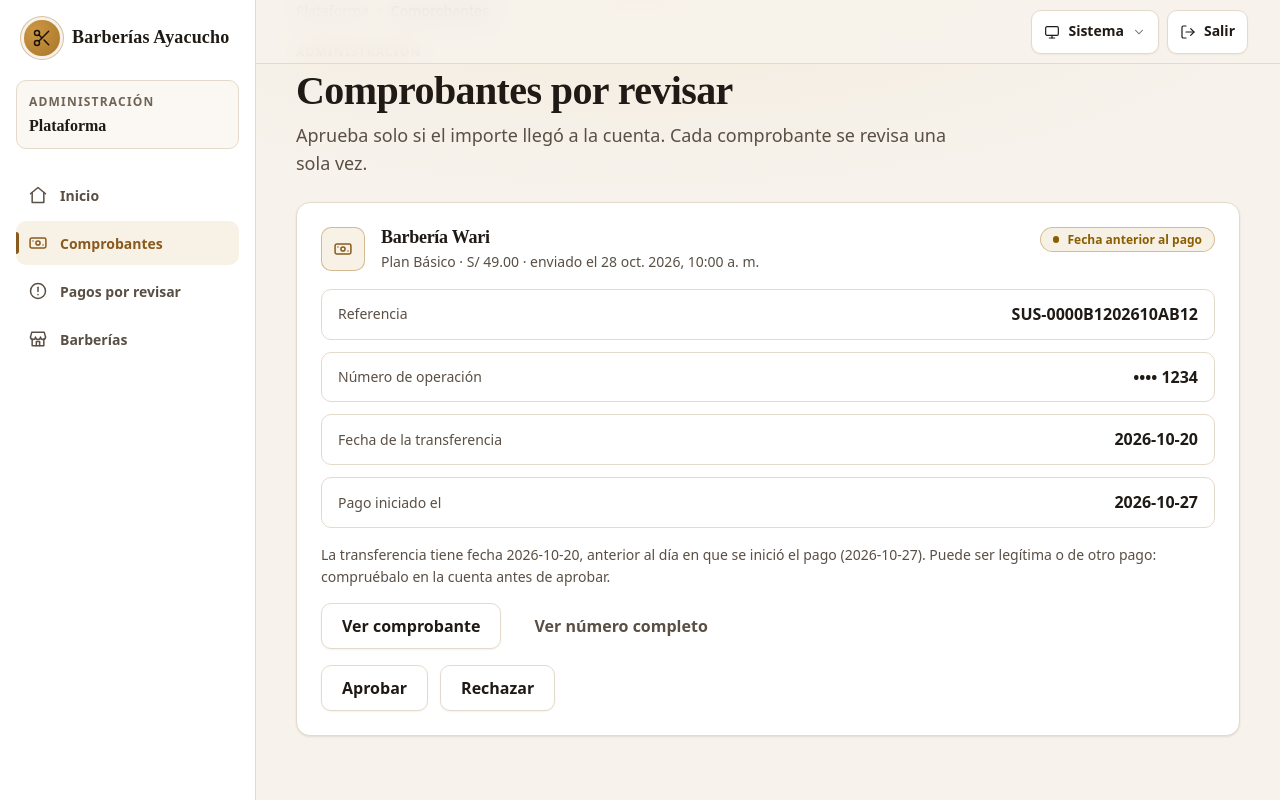
Scenario: Comprobantes por revisar (/plataforma/comprobantes) › FR-020b: la fecha anterior al pago se señala con el día de inicio en hora de Lima, y se puede aprobar
This screenshot has width=1280, height=800.
(page scrolled)
Check: the text "Fecha anterior al pago" is shown, box [1040,227,1215,252]
Check: the text "La transferencia tiene fecha 2026-10-20, anterior al día en que se inició el pago (2026-10-27)" is shown, box [321,544,1215,587]
La marca no bloquea: se aprueba igual.
Click the button "Aprobar" at x=375, y=688, box [321,665,428,711]
(page scrolled)
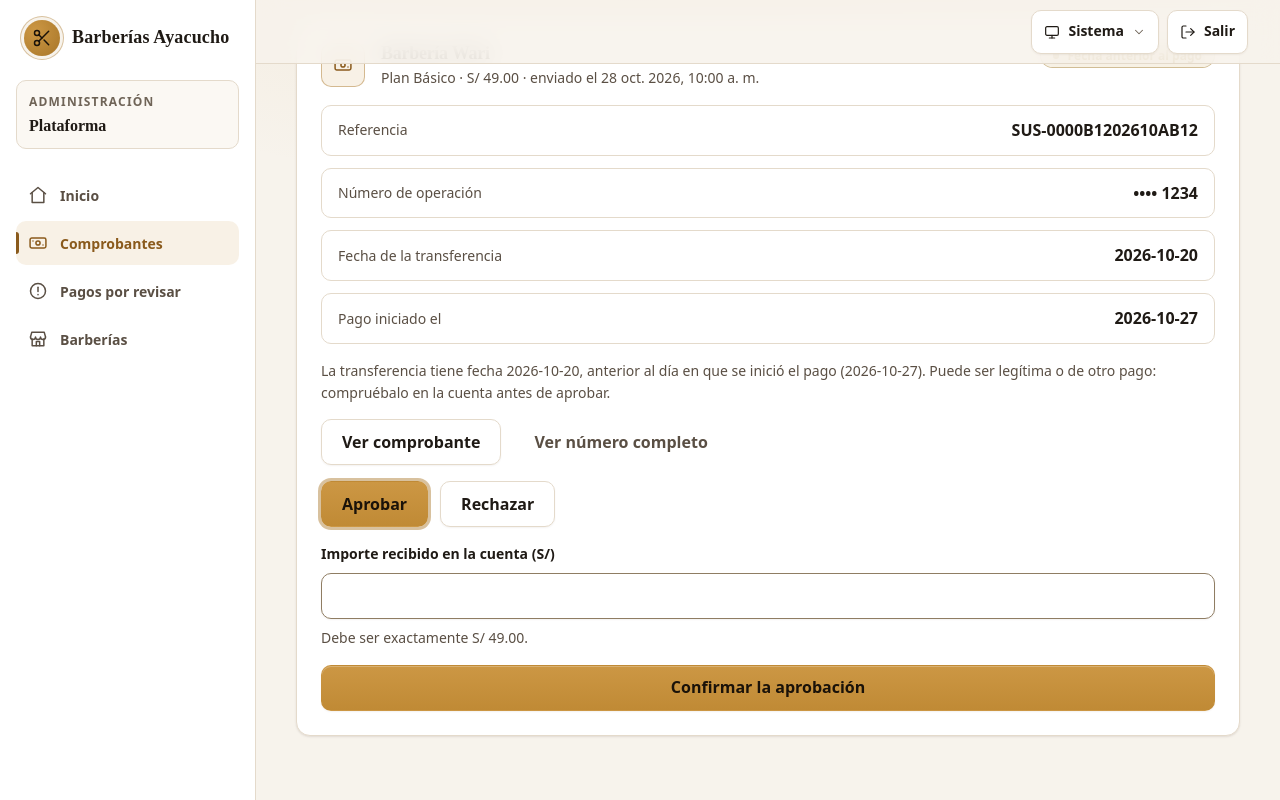
Type "49" into the field labelled "Importe recibido en la cuenta (S/)" at x=768, y=596, box [321,573,1215,619]
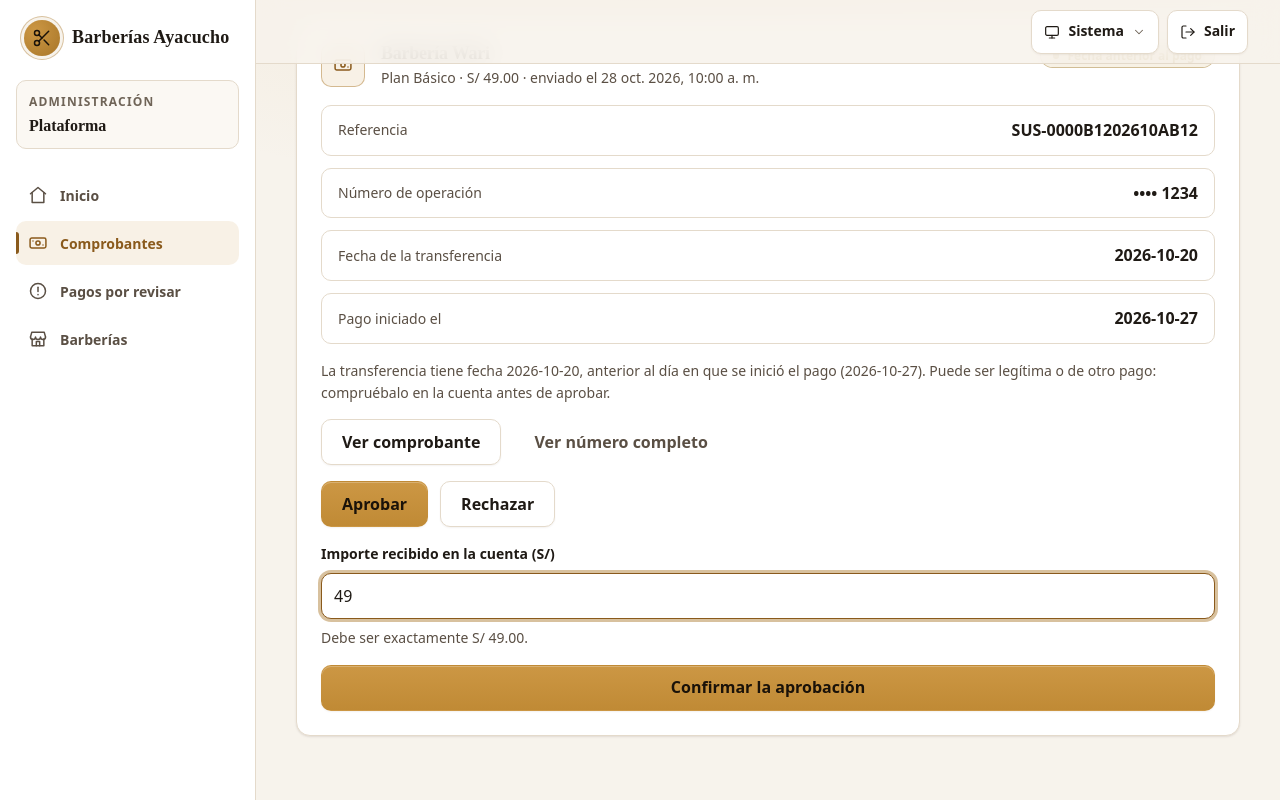
Click the button "Confirmar la aprobación" at x=768, y=688, box [321,665,1215,711]
(page scrolled)
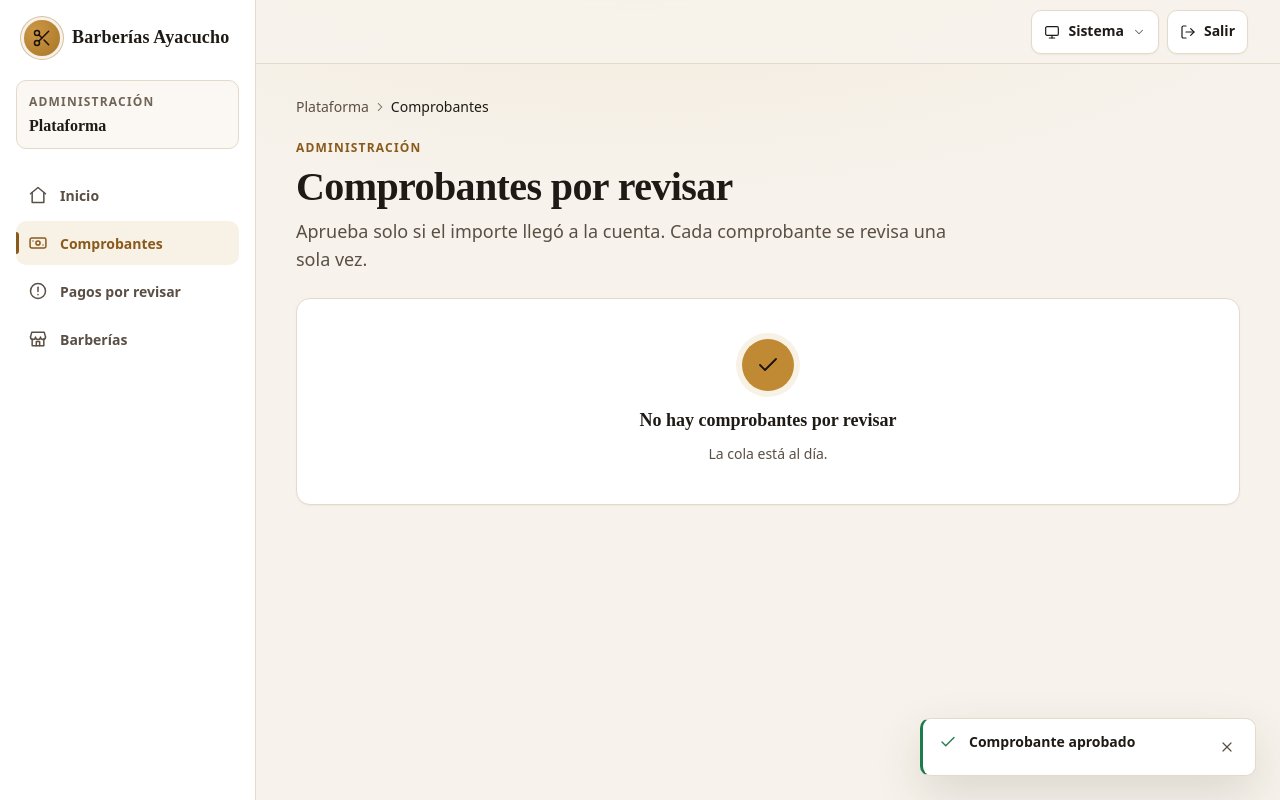
Check: the text "Comprobante aprobado" is shown, box [969,732,1135,751]
